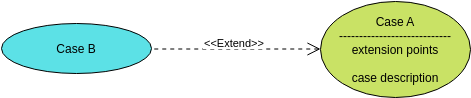association: (154, 41, 321, 56)
text: (346, 42, 442, 85), (371, 13, 422, 33), (200, 33, 264, 48), (54, 41, 100, 59)
use_case: (320, 1, 471, 98), (1, 21, 154, 75)
